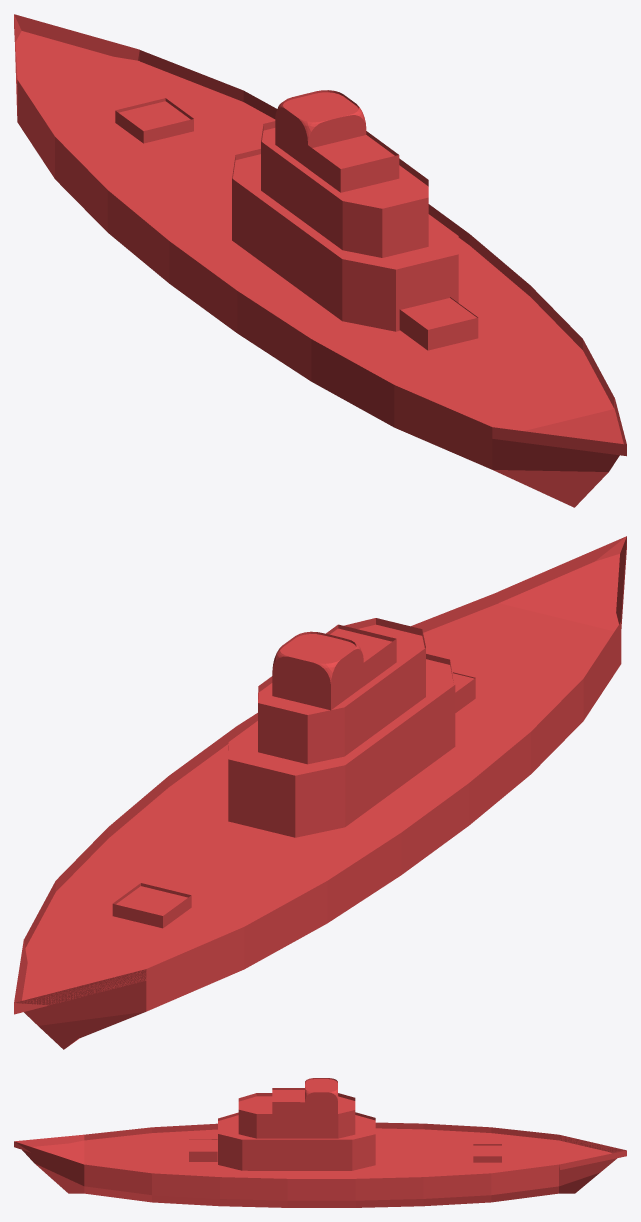
File: boat.gltf
The picture shows the model from 3 angles, top to bottom: view 1: azimuth 30°, elevation 25°; view 2: azimuth 150°, elevation 25°; view 3: azimuth 270°, elevation 25°; orthographic projection. The views are drawn at different scales.
Visible parts, largest first — view 1: Cube; view 2: Cube; view 3: Cube.
Boxes of the visible parts, x1=… form: Cube: x1=14, y1=14, x2=626, y2=507; Cube: x1=14, y1=536, x2=626, y2=1049; Cube: x1=14, y1=1078, x2=626, y2=1207.
Size of the model in its own units: 2.21 by 1.95 by 10.01.
